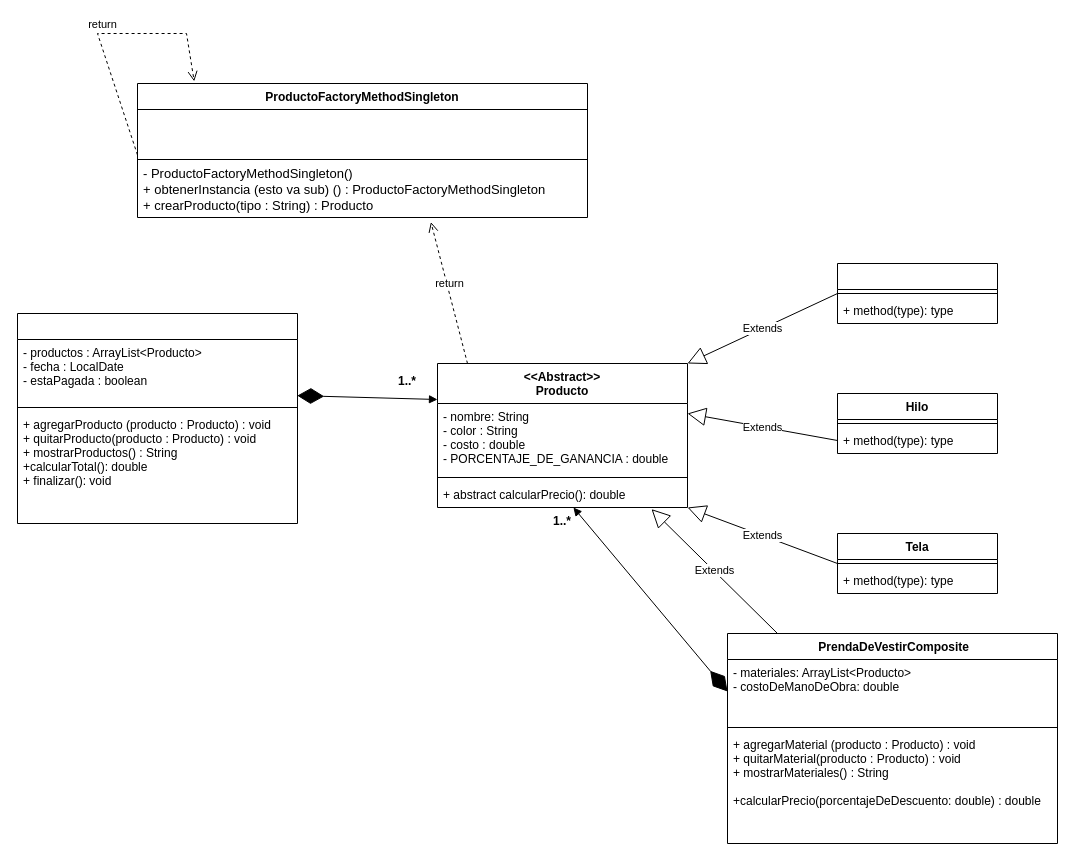
Image size: 1075x863. Some labels were removed from this diagram. Here are the shapes that lost their labels. From the top down, the box of each, then its label:
(136, 108, 588, 160): - instancia : ProductoFactoryMethodSingleton
(836, 262, 998, 324): Boton
(16, 312, 298, 524): Boleta
